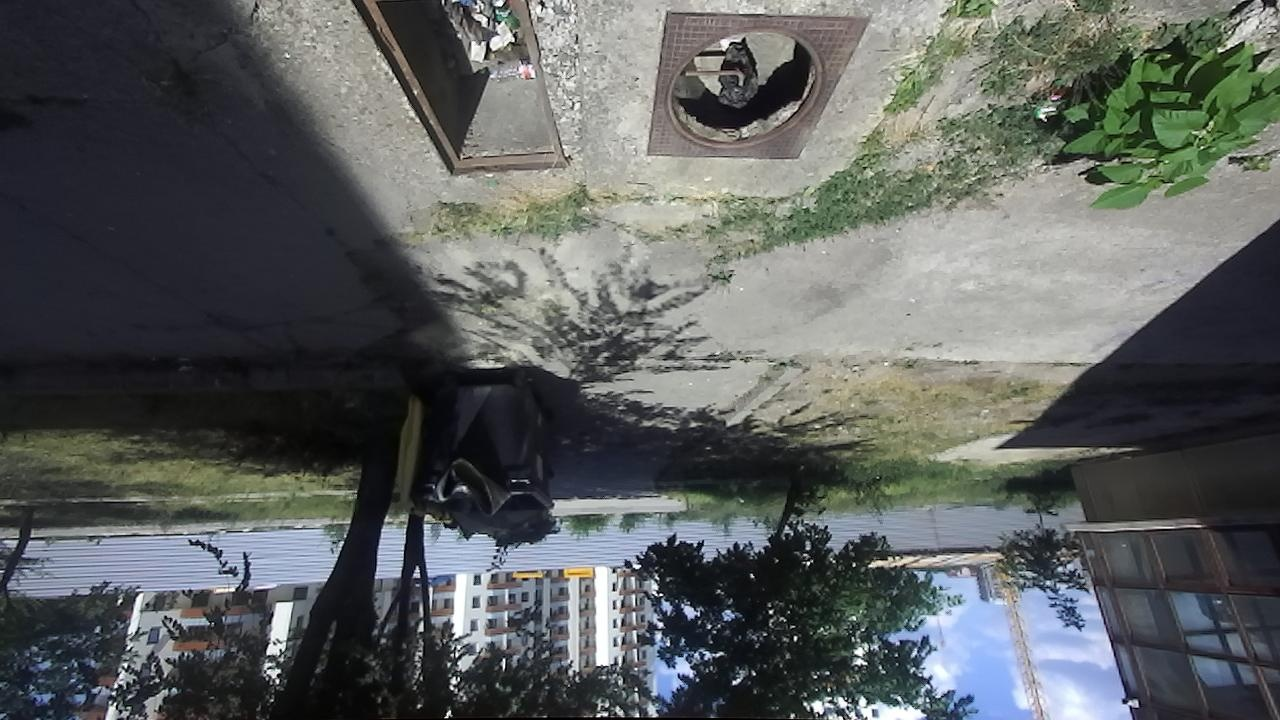drain: (348, 0, 573, 178), (664, 29, 828, 153)
